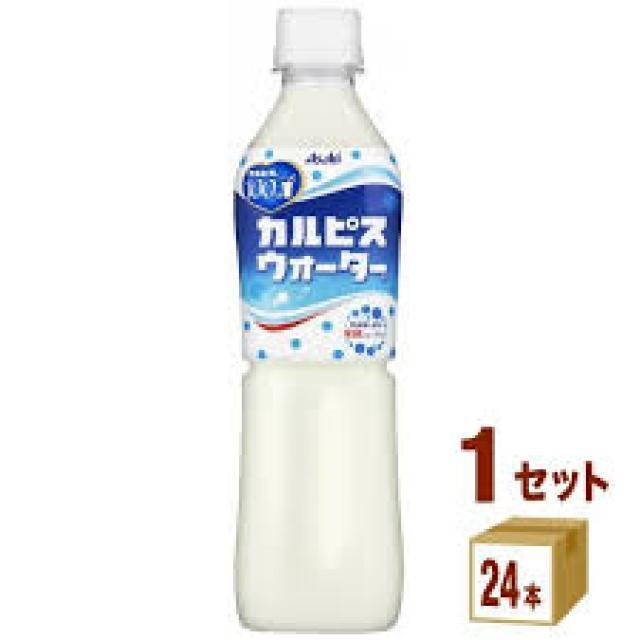Botella de plastico: (235, 8, 402, 630)
